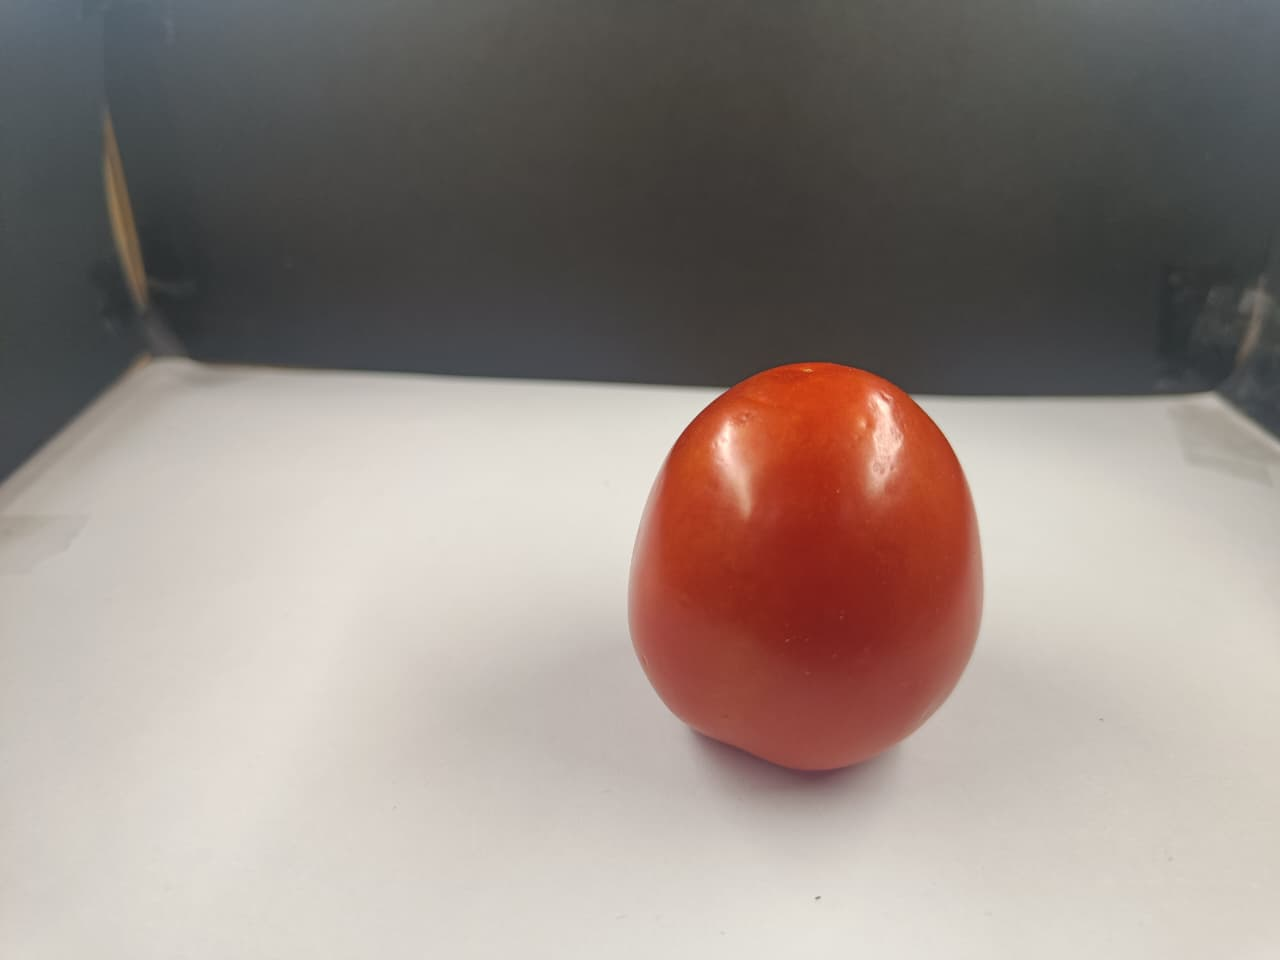ripe: (634, 349, 988, 807)
